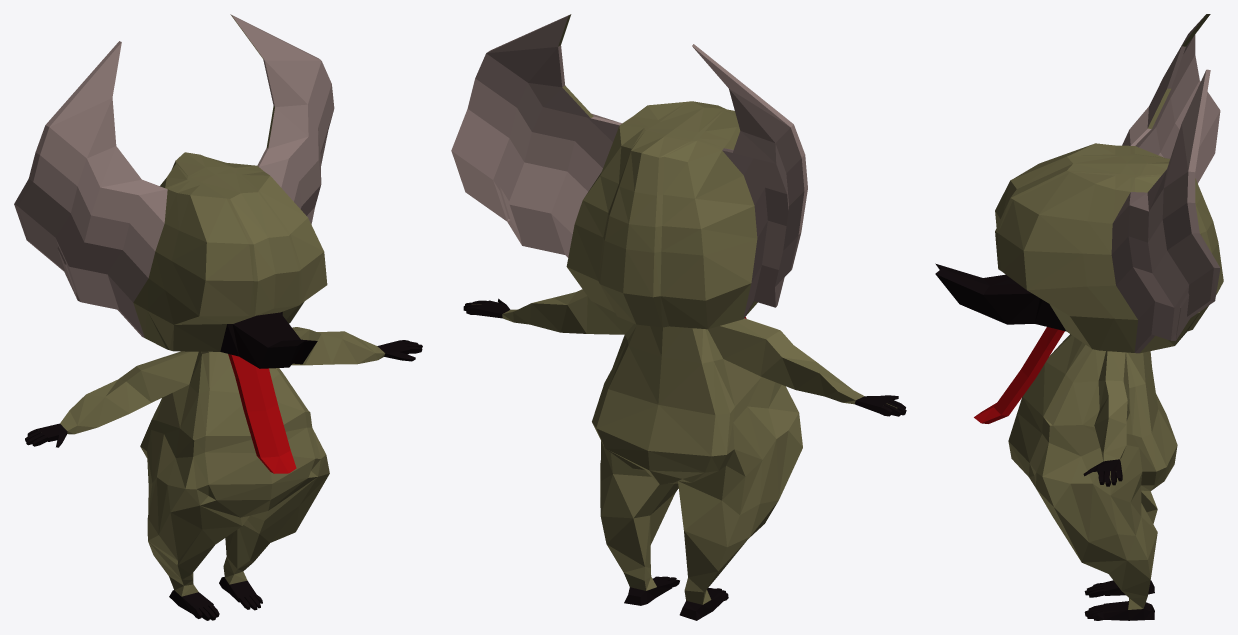
The model's file is kurent.obj.
The picture shows the model from 3 angles, left to right: view 1: azimuth 30°, elevation 25°; view 2: azimuth 150°, elevation 25°; view 3: azimuth 270°, elevation 25°; orthographic projection. The views are drawn at different scales.
Parts seen in each view (by area): view 1: Cube; view 2: Cube; view 3: Cube.
Boxes of the visible parts, box(x1,y1,x2,y2) form: Cube: box(14, 14, 422, 620); Cube: box(451, 14, 906, 620); Cube: box(935, 14, 1223, 620).
Size of the model in its own units: 13.9 by 18.28 by 8.48.
